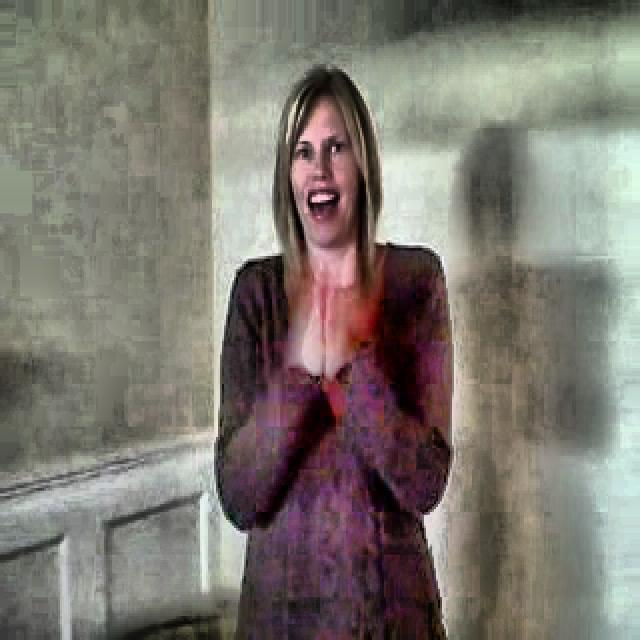F: (182, 57, 465, 627)
